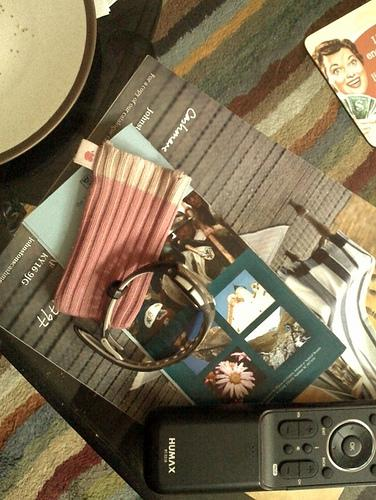apple: (84, 150, 94, 162)
